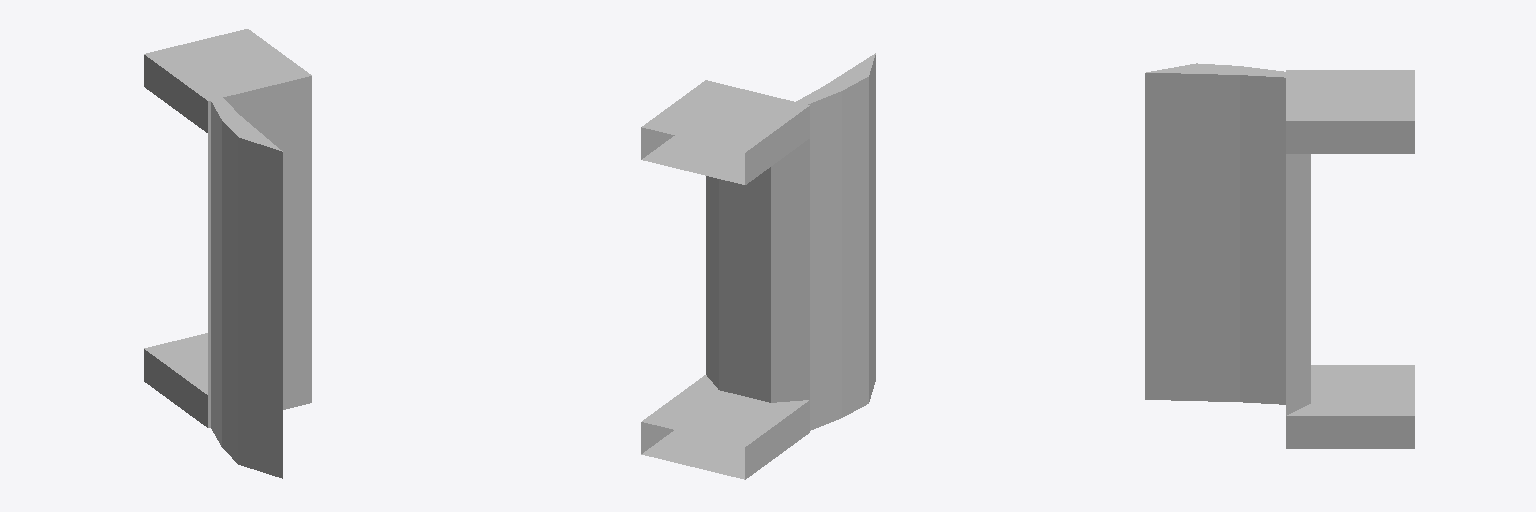
File: log_bench.obj
The picture shows the model from 3 angles: view 1: azimuth 30°, elevation 25°; view 2: azimuth 150°, elevation 25°; view 3: azimuth 270°, elevation 25°; orthographic projection.
Visible parts, largest first — view 1: bench3_Cylinder.004; view 2: bench3_Cylinder.004; view 3: bench3_Cylinder.004.
Boxes of the visible parts, box(x1,y1,x2,y2) form: bench3_Cylinder.004: box(144, 29, 311, 478); bench3_Cylinder.004: box(641, 53, 875, 479); bench3_Cylinder.004: box(1145, 63, 1414, 448).
Size of the model in its own units: 0.4987 by 1.31 by 0.9814.